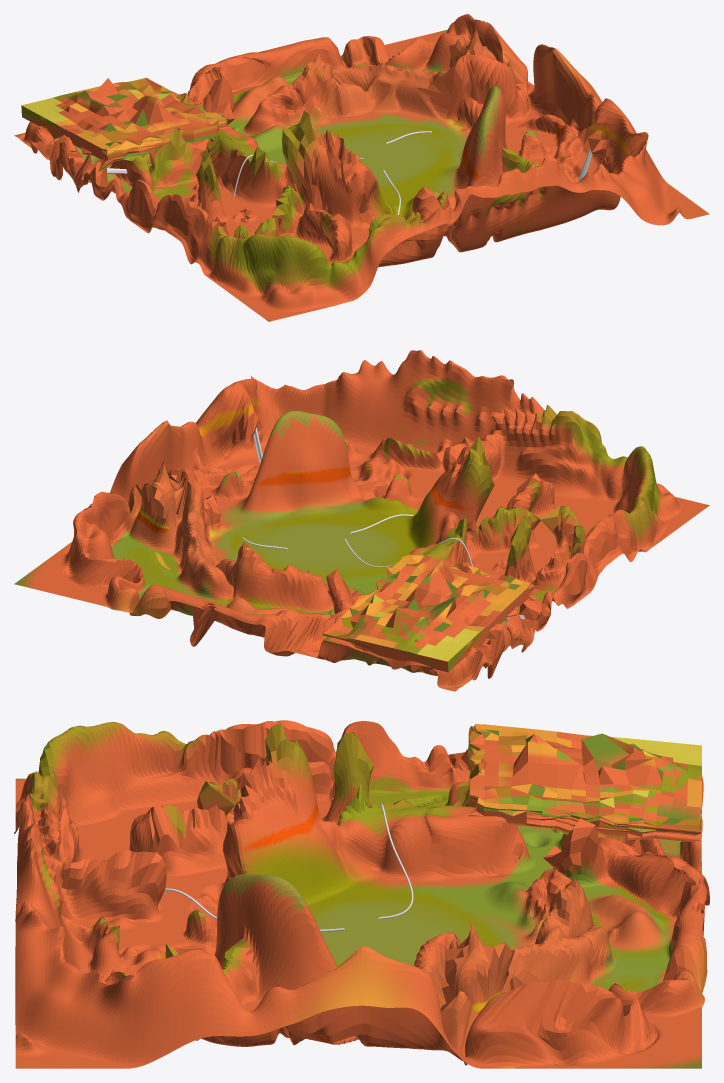
Rendered from Landscape_1.fbx.
3 renders of one model, top to bottom at view 1: azimuth 30°, elevation 25°; view 2: azimuth 150°, elevation 25°; view 3: azimuth 270°, elevation 25°, orthographic. The views are drawn at different scales.
Visible parts, largest first — view 1: Plane, Cave1; view 2: Plane, Cave1; view 3: Plane, Cave1.
Part boxes in pixels (box(x1,y1,x2,y2)): Plane: box(14, 14, 709, 321); Cave1: box(21, 77, 233, 171); Plane: box(14, 350, 709, 691); Cave1: box(323, 554, 536, 672); Plane: box(14, 720, 709, 1068); Cave1: box(468, 724, 701, 842).
Bounding box in the file's own units: 37195 × 10024 × 37124.
Materials: 1 (1 with a texture image).
